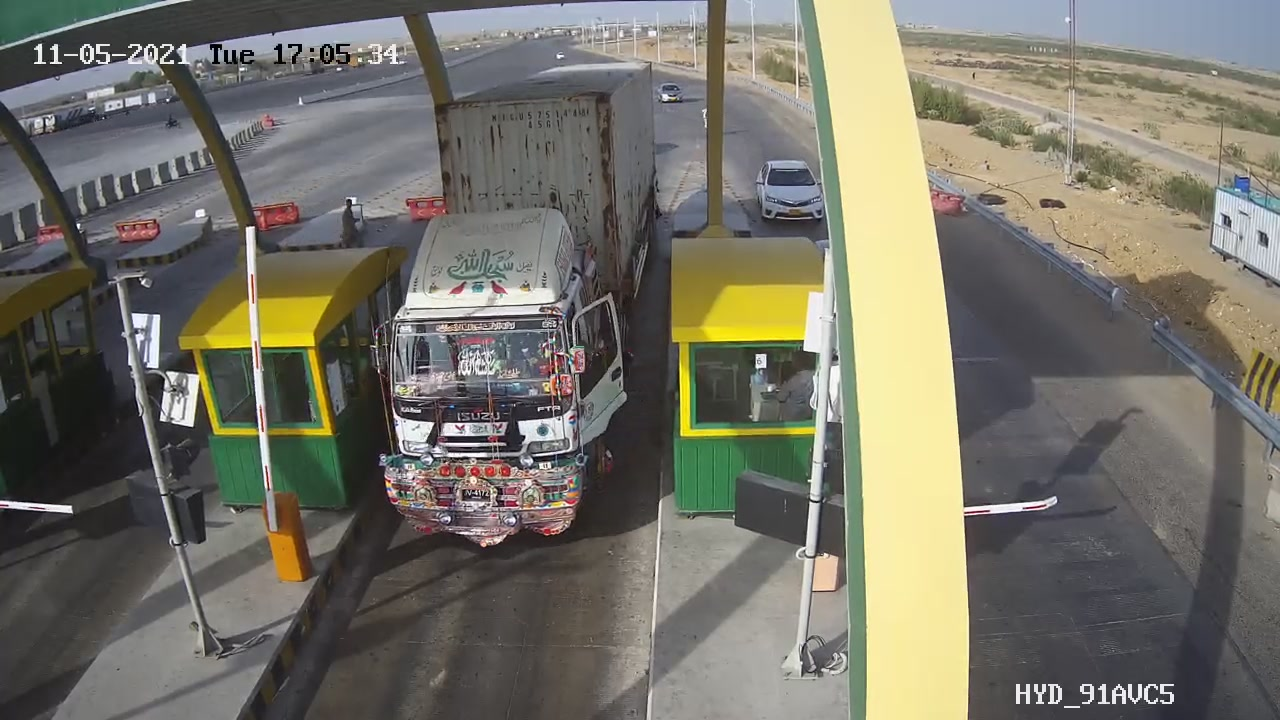F6: (356, 48, 686, 565)
